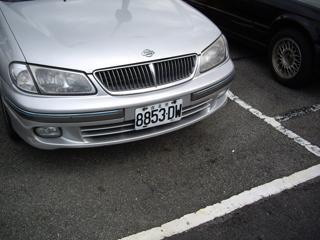plate: (132, 100, 184, 131)
